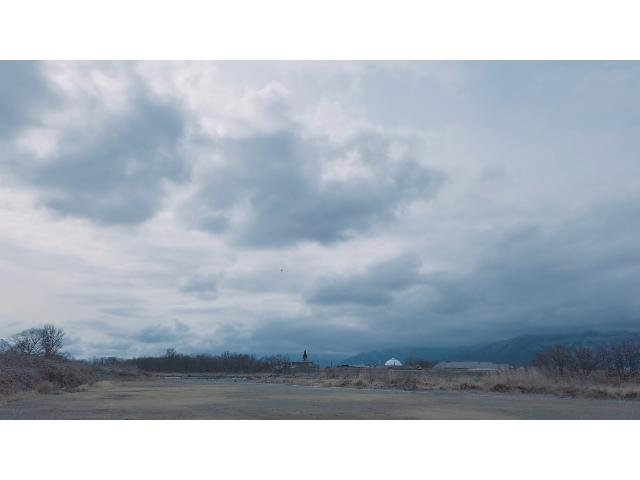Anti-Drone: (278, 267, 284, 277)
